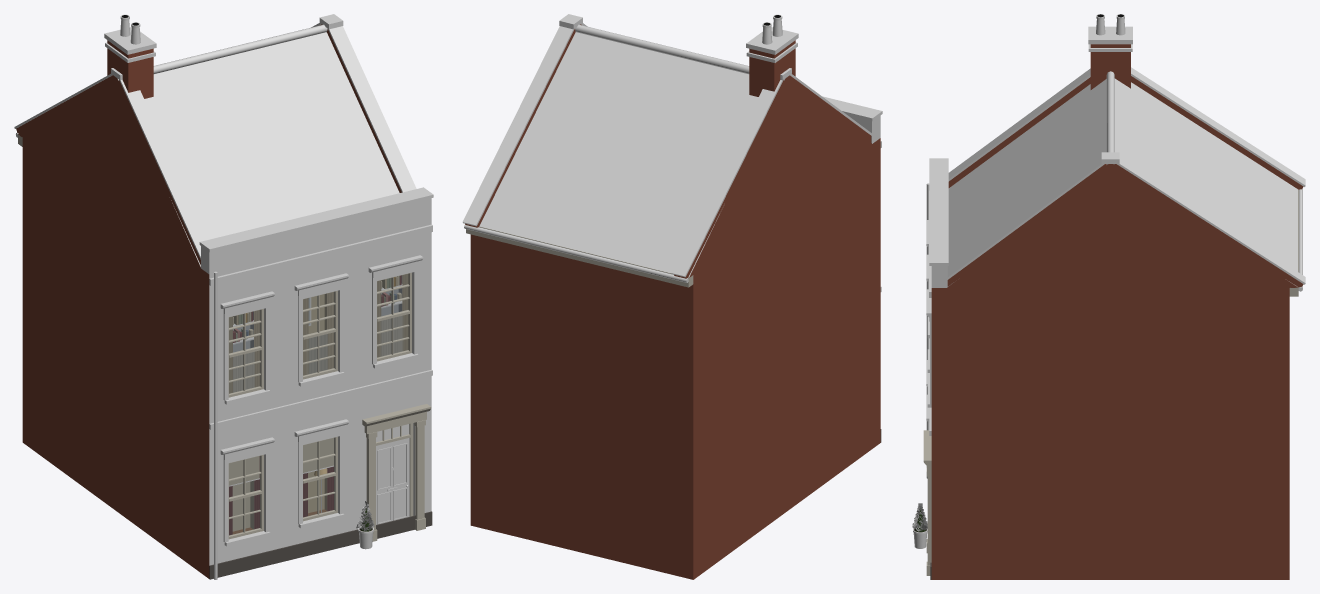
The model's file is terrace_55.glb.
3 renders of one model, left to right at view 1: azimuth 30°, elevation 25°; view 2: azimuth 150°, elevation 25°; view 3: azimuth 270°, elevation 25°, orthographic. The views are drawn at different scales.
Visible parts, largest first — view 1: terrace_55; view 2: terrace_55; view 3: terrace_55.
Part boxes in pixels (<box>): terrace_55: <box>14,14,433,579</box>; terrace_55: <box>462,14,882,579</box>; terrace_55: <box>912,14,1305,579</box>.
Size of what is drawn, in the model's own units: 5.54 by 11.51 by 8.82.
